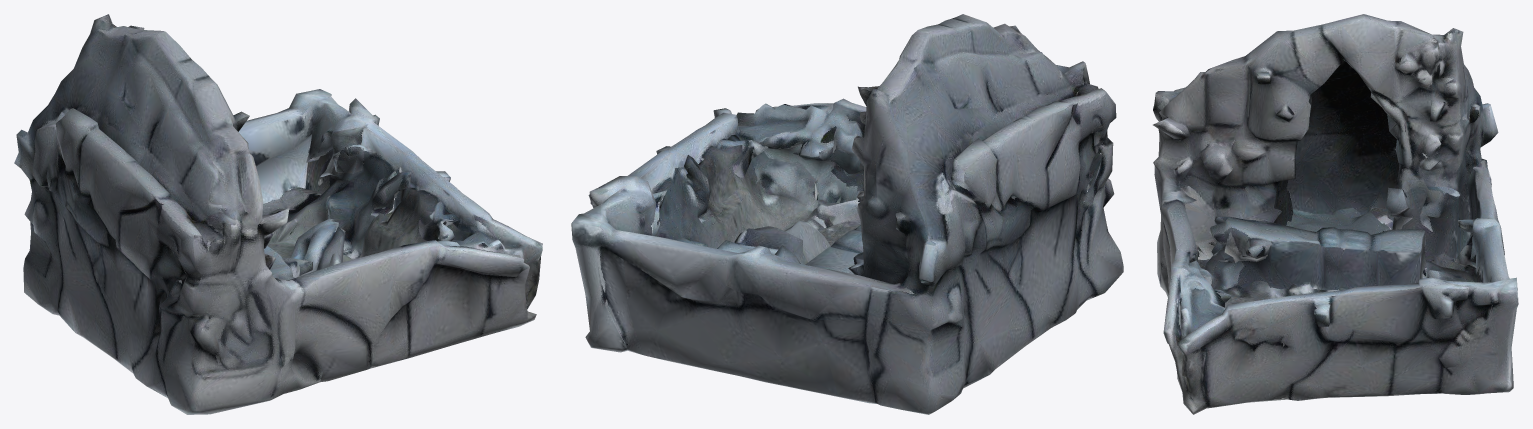
File: ruin-corner-5.glb
The picture shows the model from 3 angles, left to right: view 1: azimuth 30°, elevation 25°; view 2: azimuth 150°, elevation 25°; view 3: azimuth 270°, elevation 25°; orthographic projection. The views are drawn at different scales.
Visible parts, largest first — view 1: ruin-corner-5.glb; view 2: ruin-corner-5.glb; view 3: ruin-corner-5.glb.
Boxes of the visible parts, bbox=[...] form: ruin-corner-5.glb: bbox=[14, 14, 542, 414]; ruin-corner-5.glb: bbox=[571, 14, 1123, 414]; ruin-corner-5.glb: bbox=[1153, 14, 1518, 414].
Bounding box in the file's own units: 1 × 0.7603 × 0.925.
1 material, 1 textured.
